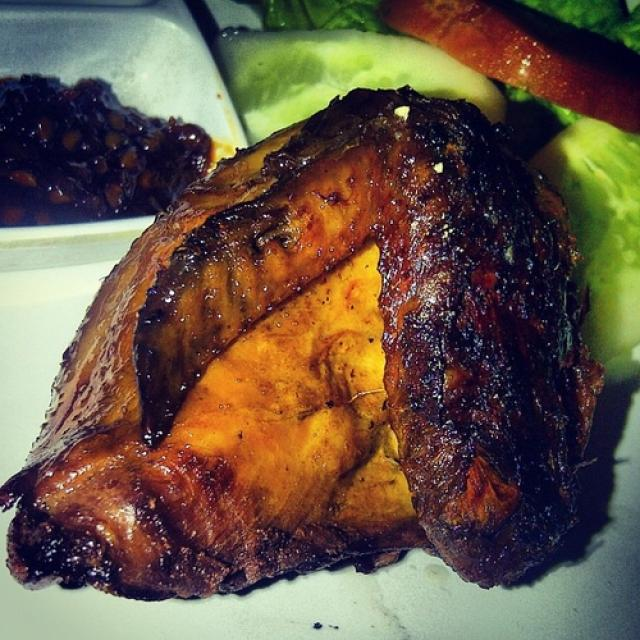鸡肉料理 含炸鸡: (13, 55, 621, 613)
